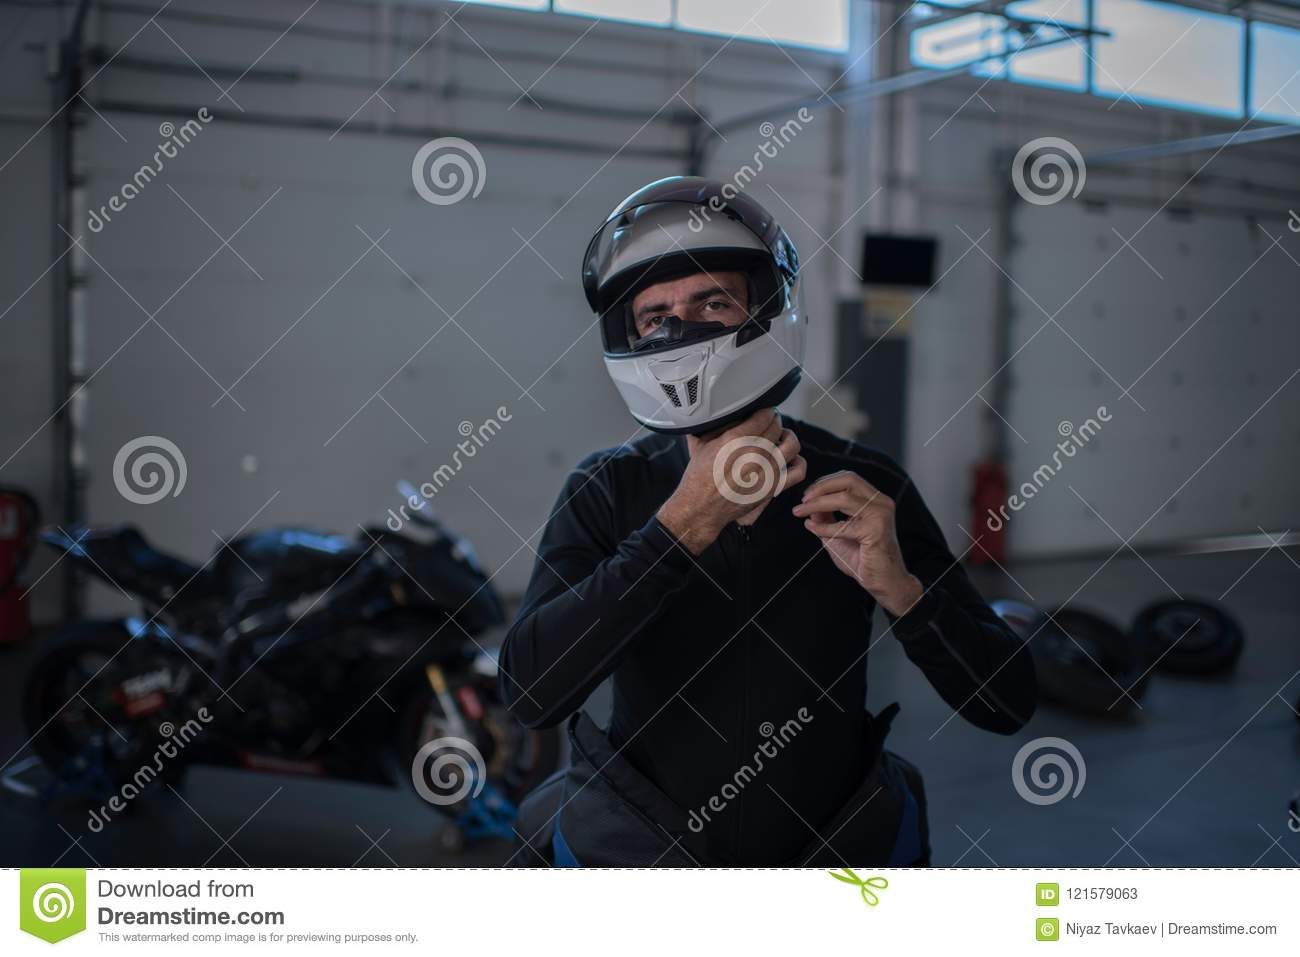helmet: (570, 194, 823, 430)
